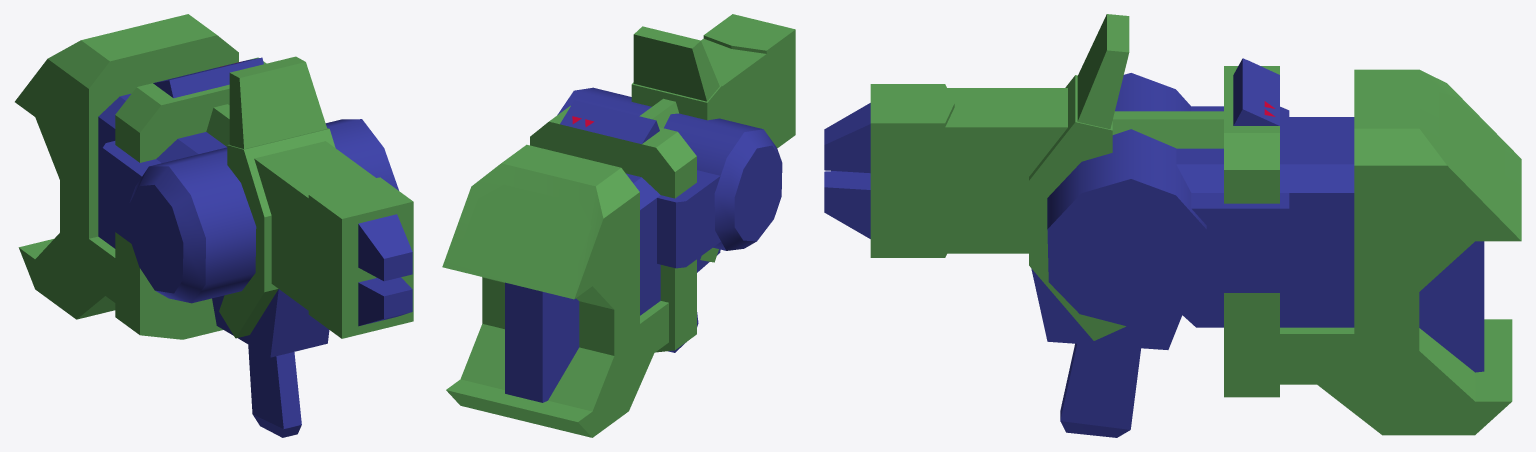
File: RivetgunLV1.obj
The picture shows the model from 3 angles, left to right: view 1: azimuth 30°, elevation 25°; view 2: azimuth 150°, elevation 25°; view 3: azimuth 270°, elevation 25°; orthographic projection. The views are drawn at different scales.
Visible parts, largest first — view 1: Rivetgun_LV1_rivet; view 2: Rivetgun_LV1_rivet; view 3: Rivetgun_LV1_rivet.
Boxes of the visible parts, x1,y1,x2,y2 form: Rivetgun_LV1_rivet: [15, 14, 413, 437]; Rivetgun_LV1_rivet: [442, 14, 795, 437]; Rivetgun_LV1_rivet: [824, 14, 1521, 437].
Bounding box in the file's own units: 0.9026 × 1.48 × 2.33.
